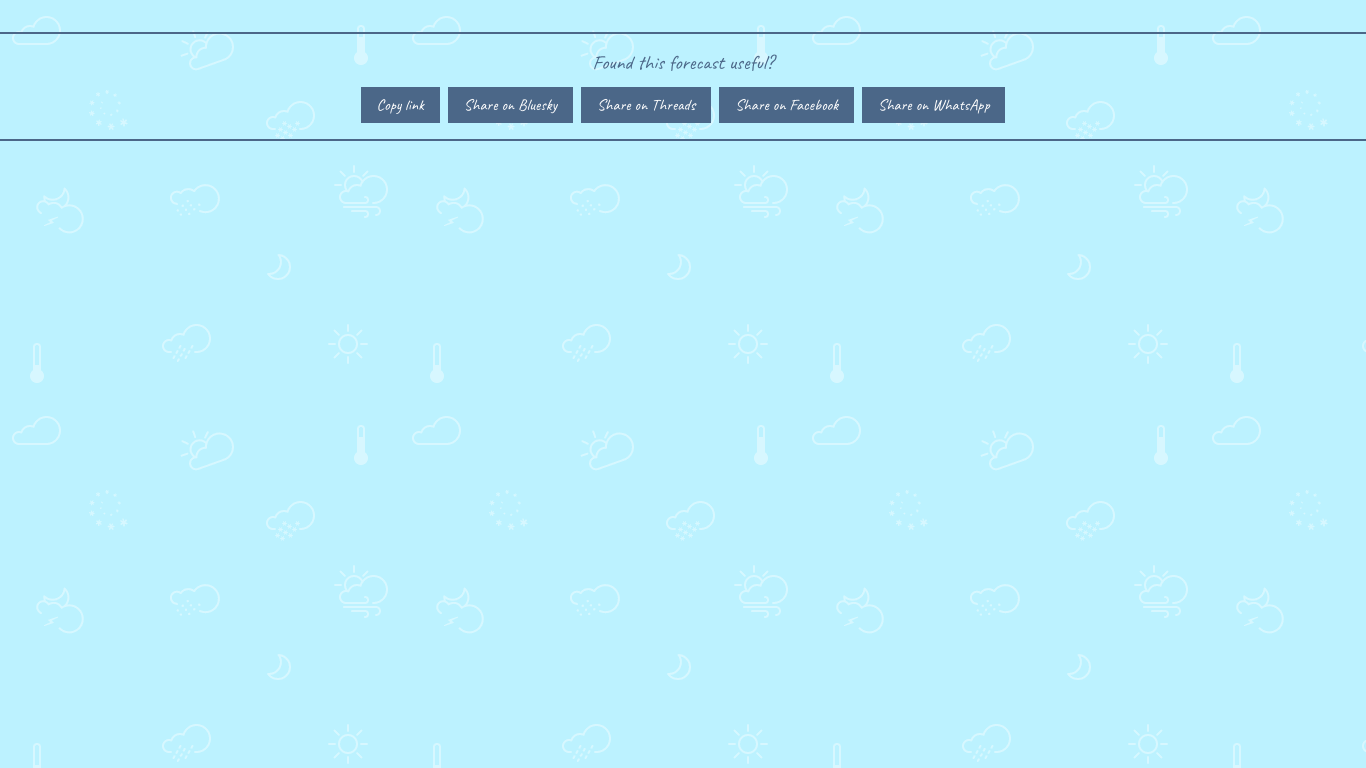
it: ShareButton › shows a manual-copy error when the clipboard write fails
The image size is (1366, 768).
Click the button with aria-label "Copy link to this forecast". click: (400, 105)
box: 360,87 -> 440,123
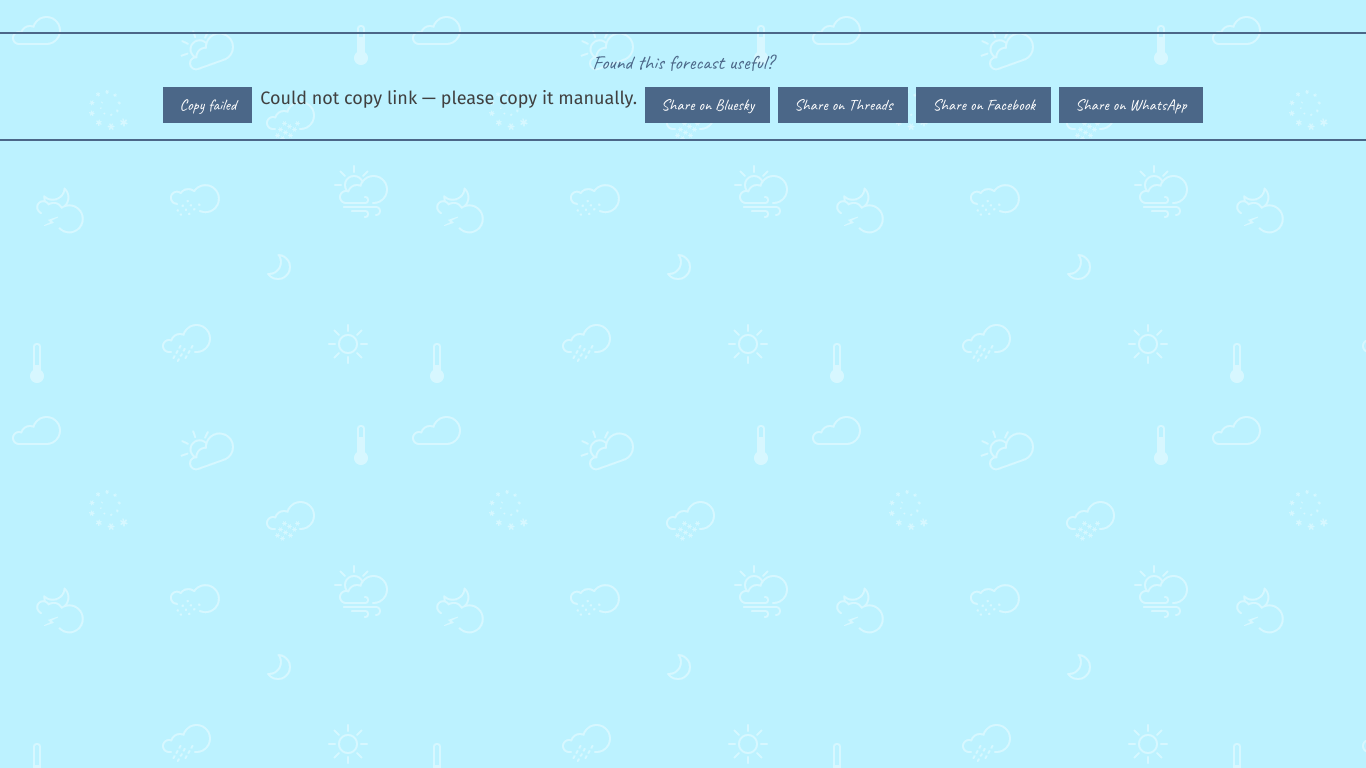
Result: the message reads "Could not copy link — please copy it manually." at 260,87 -> 637,109
